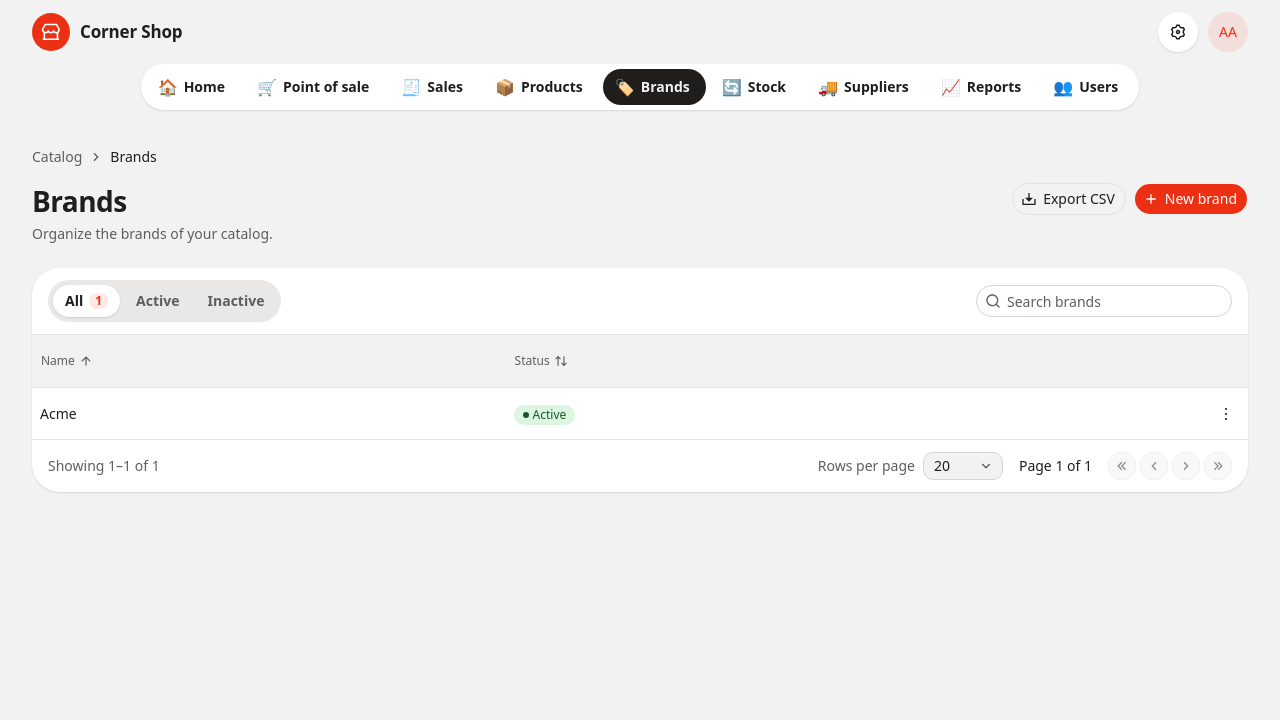
it: AuthProvider › signs out
Expected: the button "Acme" is shown, [40,404,77,424]
Click the button with aria-label "User menu".
click(1228, 32)  # box [1208,12,1248,52]
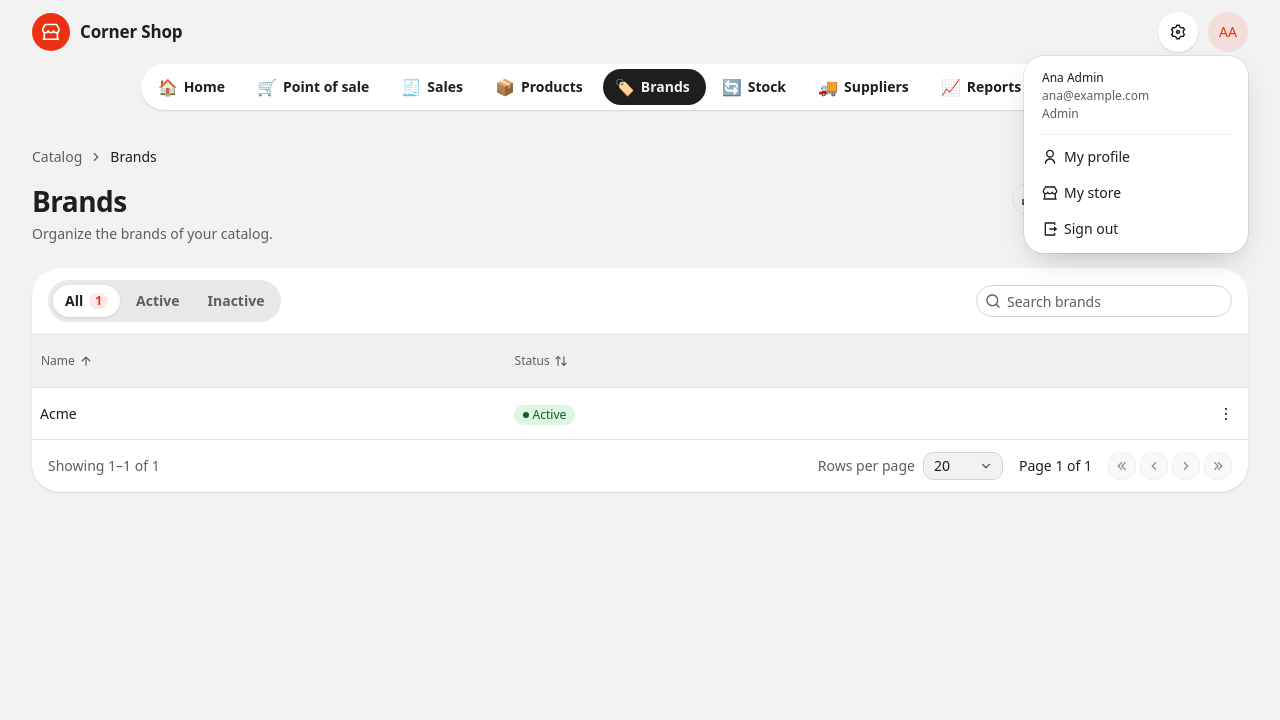
Click the menu item "Sign out".
click(1080, 228)  # box [1042,219,1118,238]
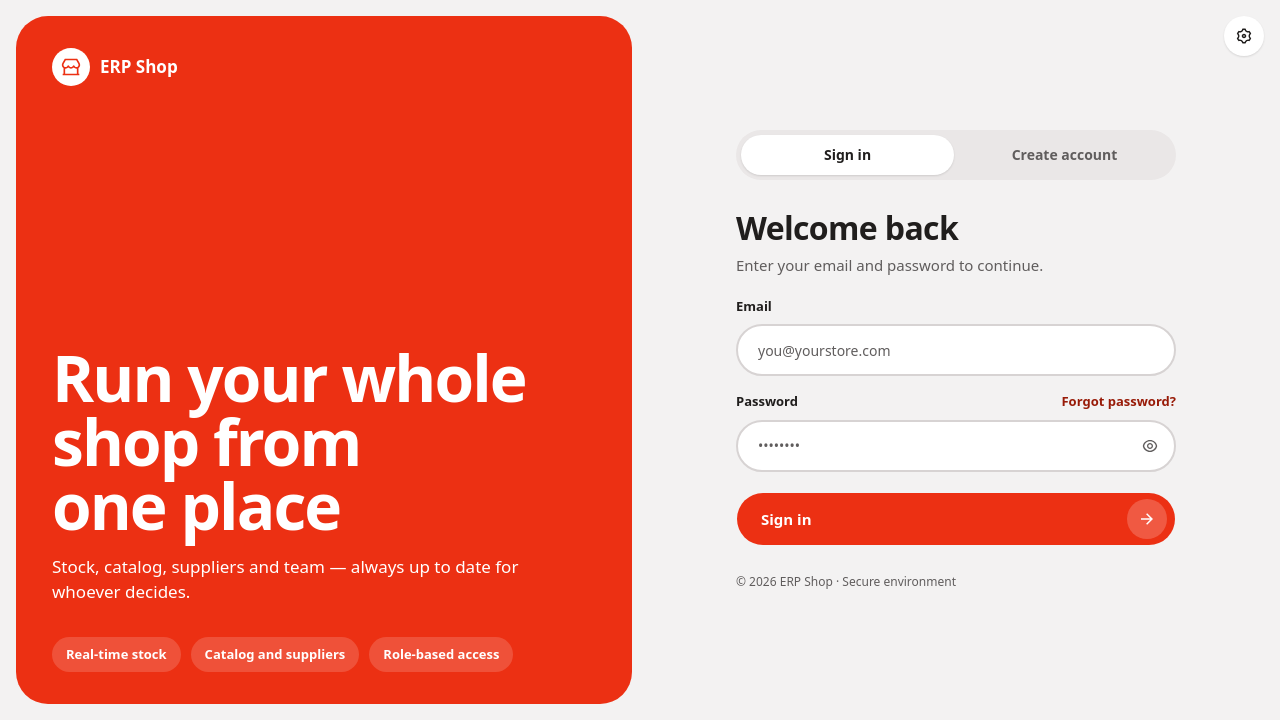
Expected: the button "Sign in" is shown, [736,492,1176,546]
